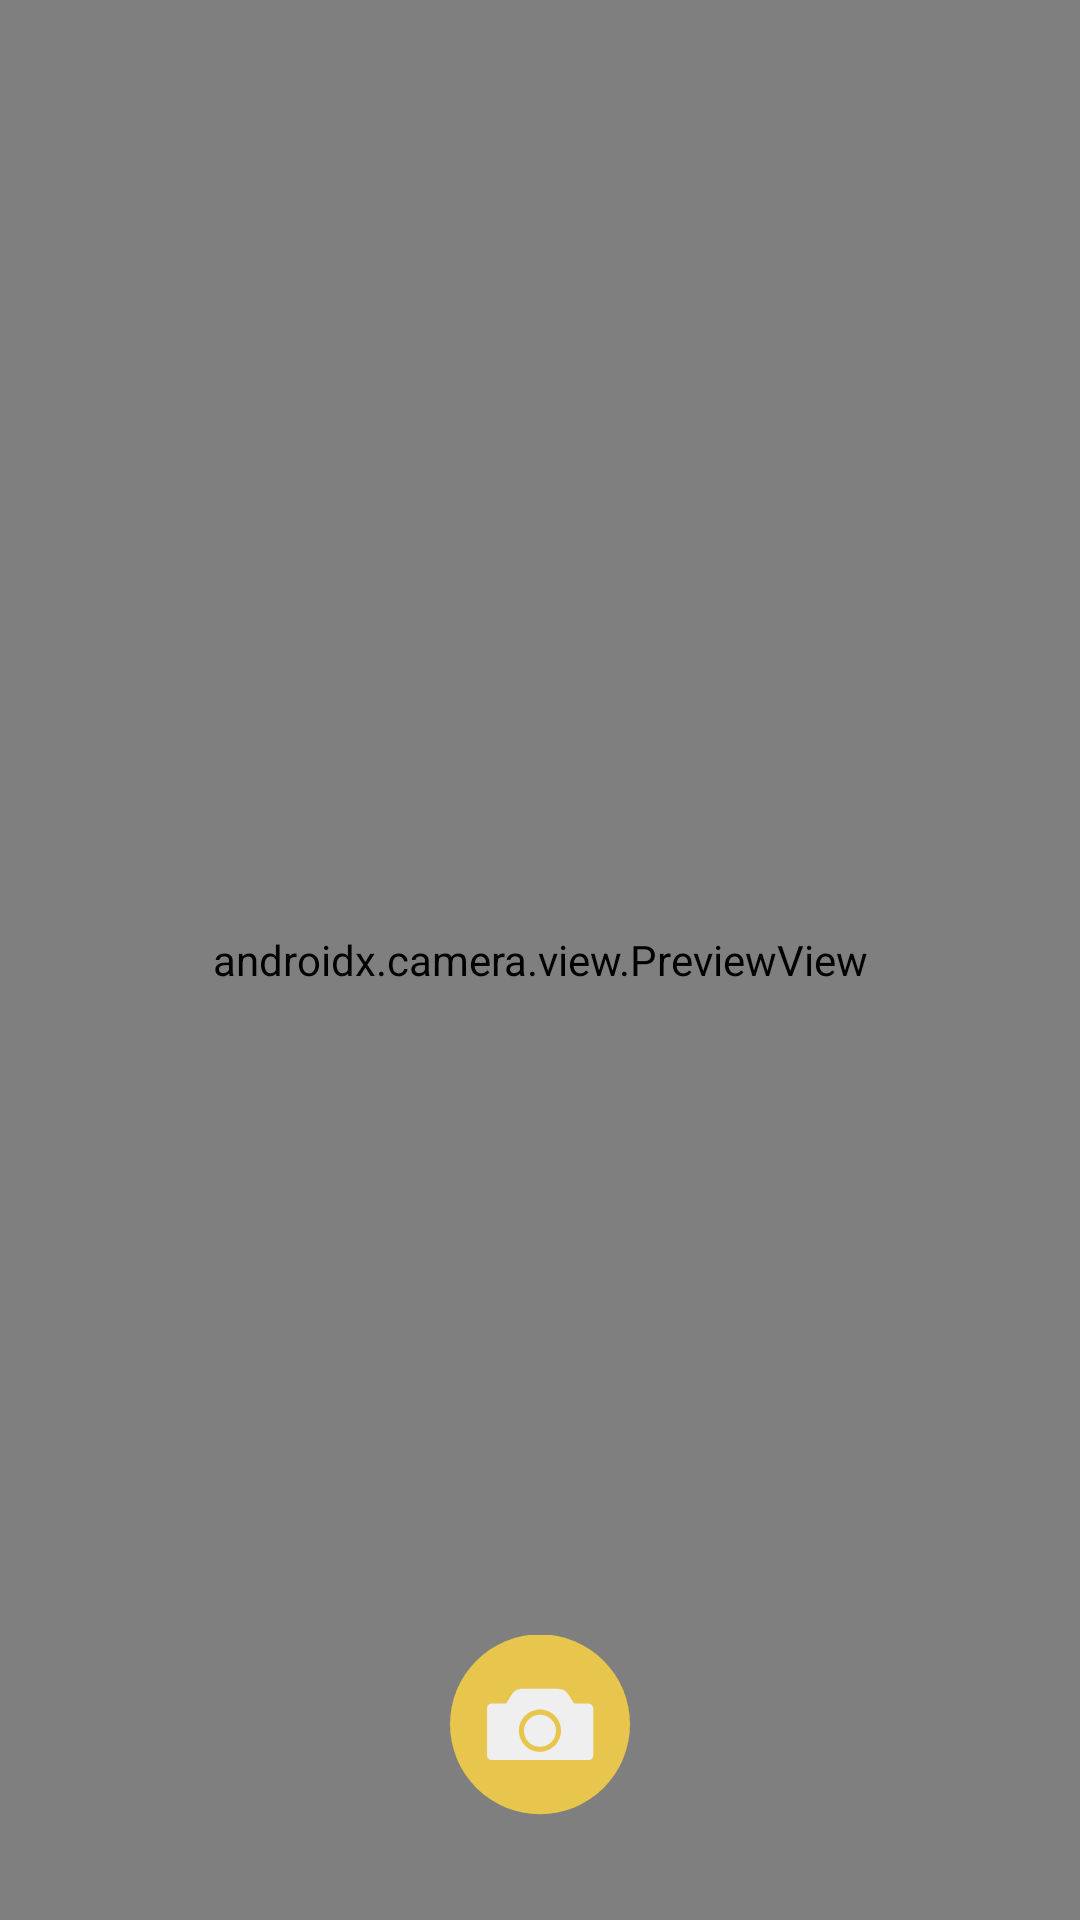

Icon bounding boxes for this 1080x1920 phone screenshot, format Rect(x1, y1, x2, y2):
capture: Rect(450, 1635, 630, 1814)
